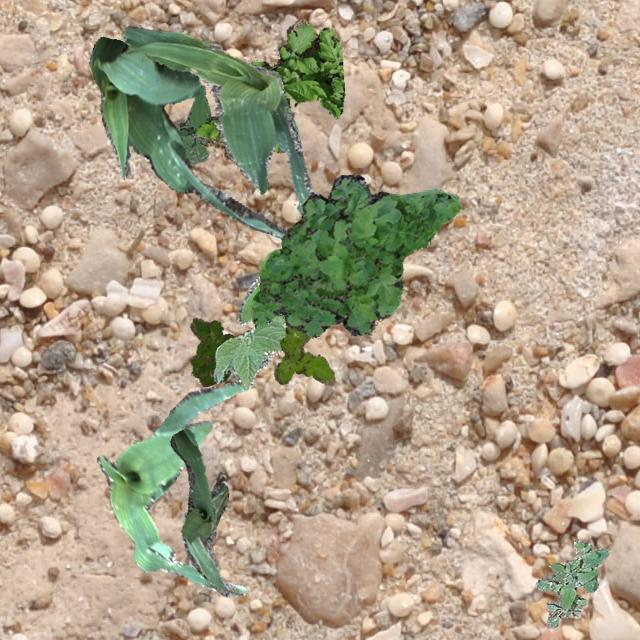crop: (87, 35, 285, 238), (121, 26, 312, 214), (95, 378, 248, 594), (170, 428, 237, 596), (212, 276, 286, 388)
weed: (248, 174, 461, 336), (193, 19, 344, 160), (534, 538, 608, 628), (272, 326, 334, 384), (188, 316, 238, 386), (176, 84, 218, 164)
